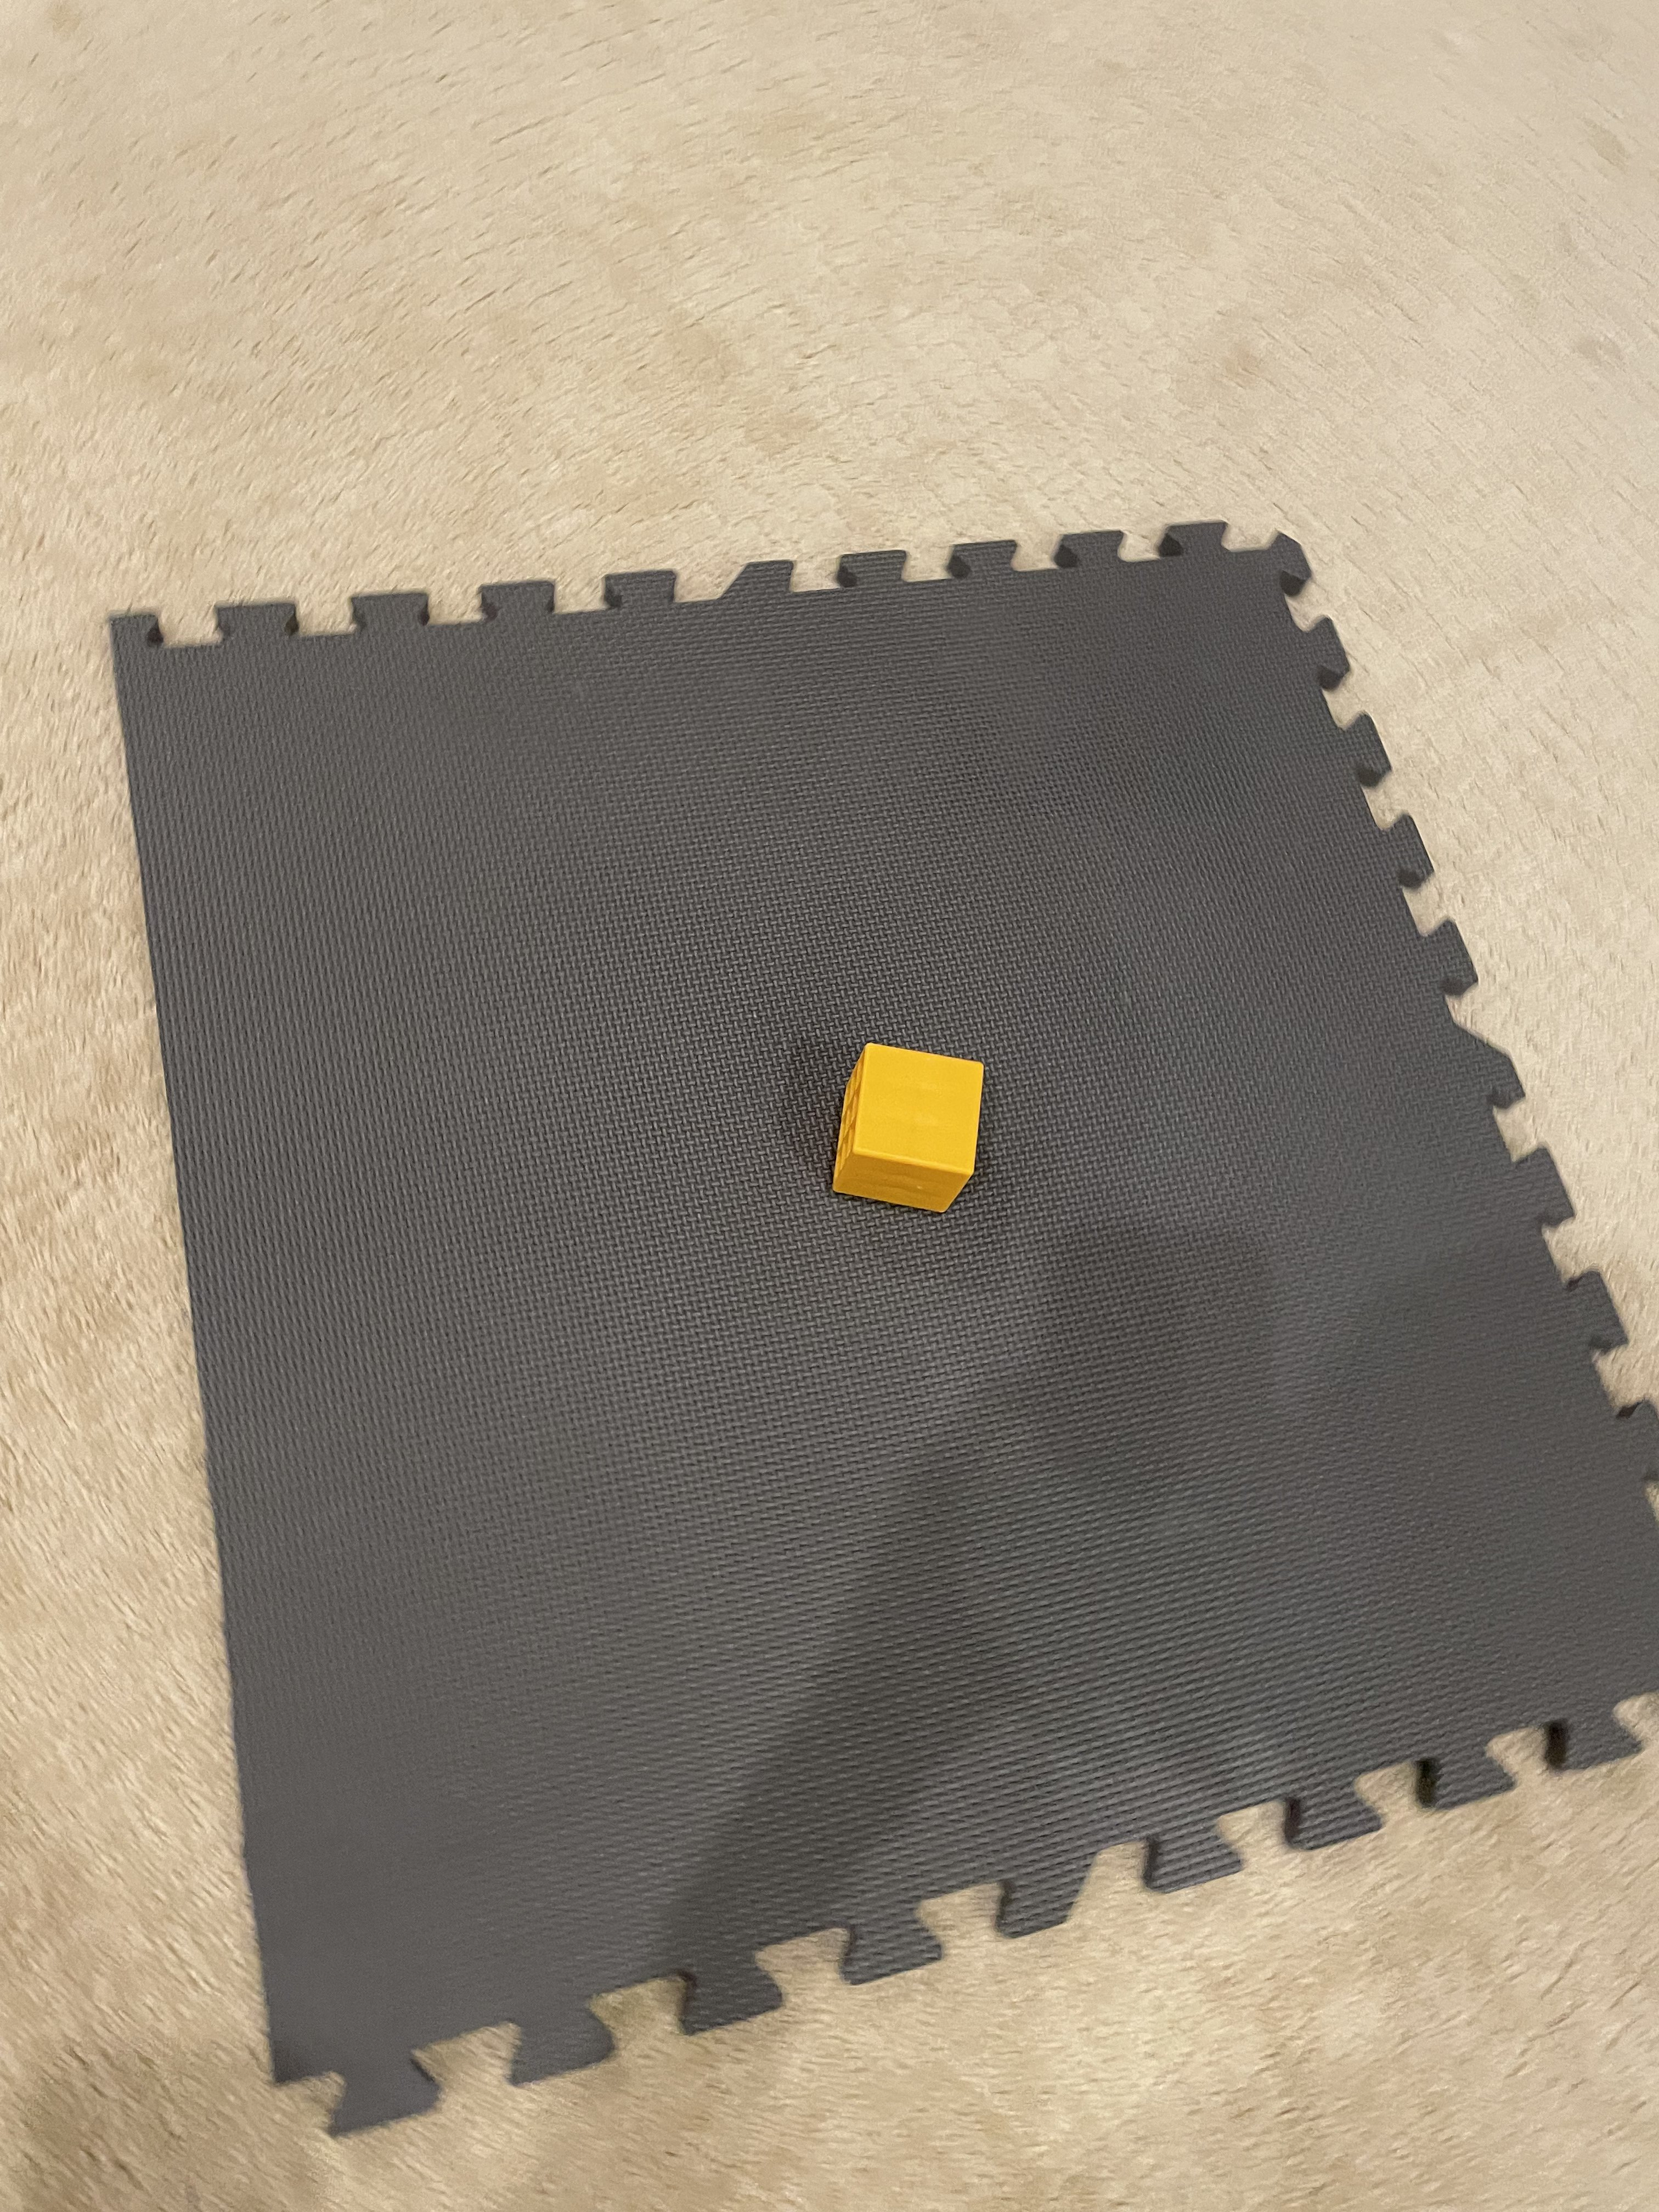cube: (805, 1005, 1012, 1244)
